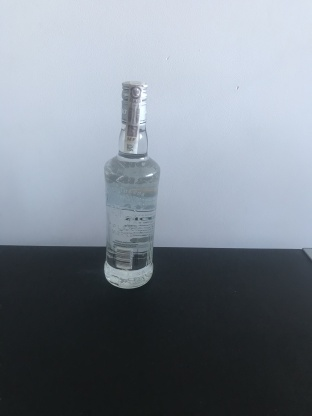nakretka: (118, 76, 150, 125)
